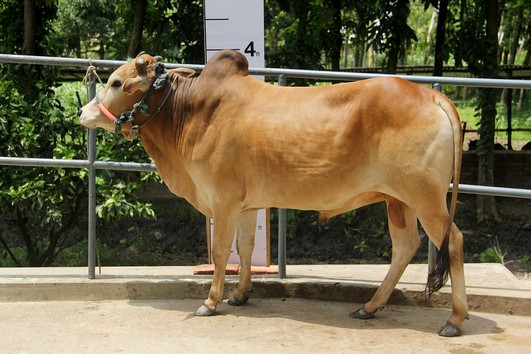cow: (69, 41, 480, 341)
